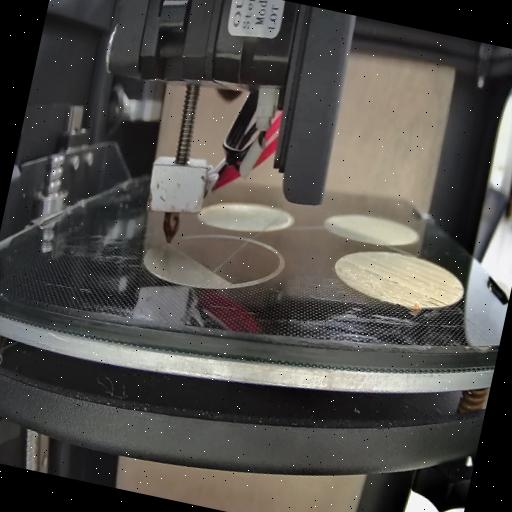under_extrusion: (344, 258, 400, 285), (418, 293, 448, 313), (450, 282, 464, 296)
